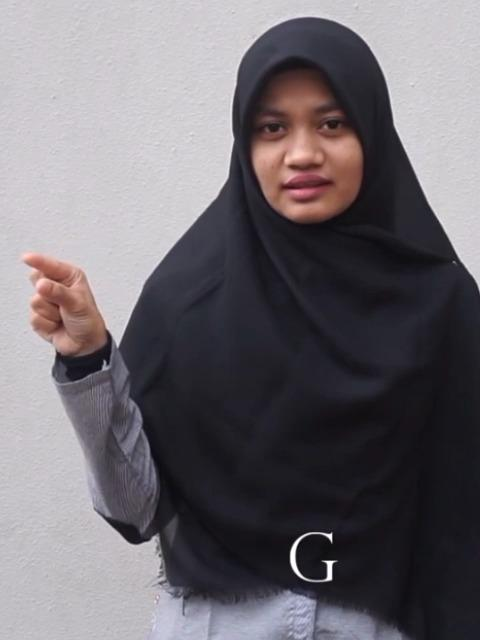G: (14, 250, 104, 354)
